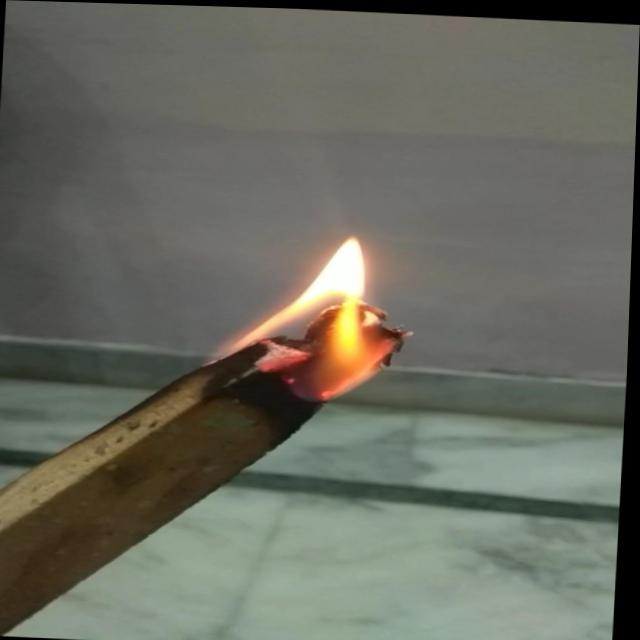fire: (212, 220, 434, 403)
